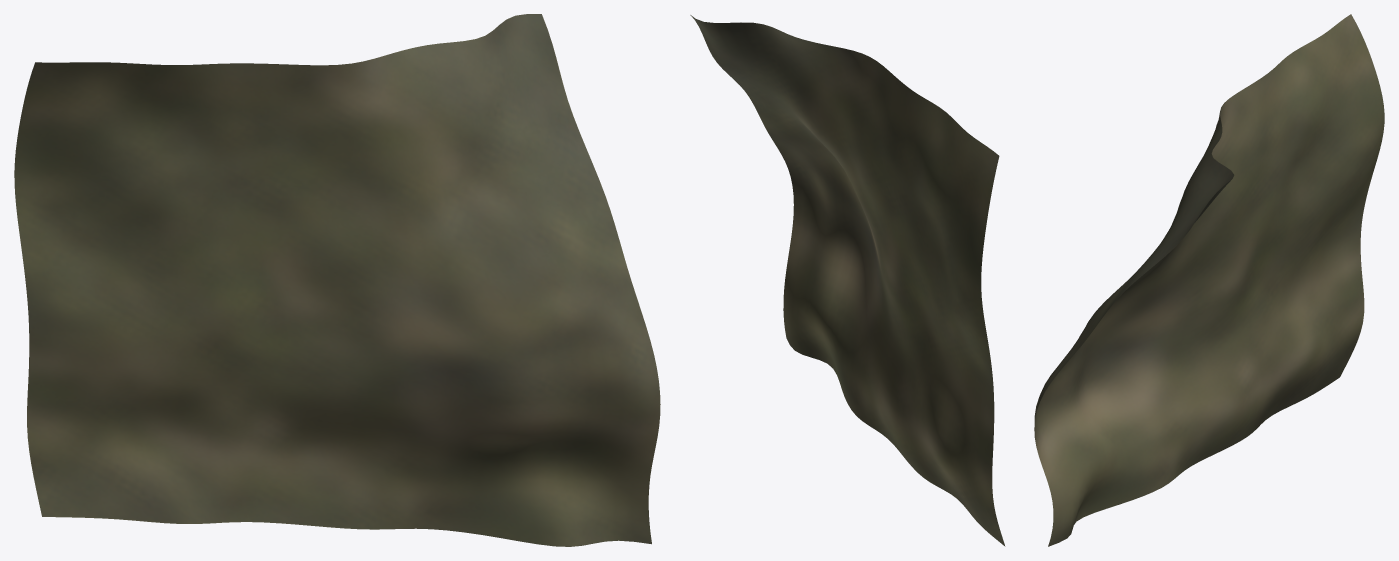
File: ground_mid_08_02.obj
The picture shows the model from 3 angles, left to right: view 1: azimuth 30°, elevation 25°; view 2: azimuth 150°, elevation 25°; view 3: azimuth 270°, elevation 25°; orthographic projection. The views are drawn at different scales.
Visible parts, largest first — view 1: ground_mid_08_02; view 2: ground_mid_08_02; view 3: ground_mid_08_02.
Boxes of the visible parts, <box> form: ground_mid_08_02: <box>14,14,660,546</box>; ground_mid_08_02: <box>690,15,1005,546</box>; ground_mid_08_02: <box>1034,14,1384,546</box>.
Bounding box in the file's own units: 200 × 200 × 175.
1 material, 1 textured.
